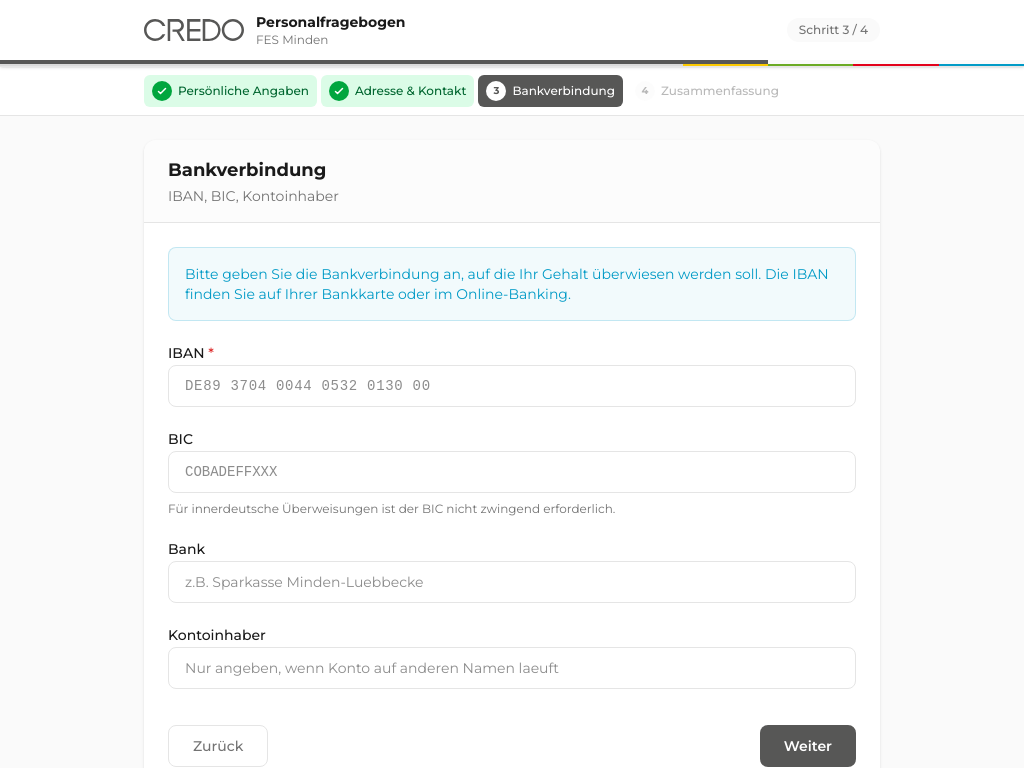
Test: Schrittleiste: erkennt auch Eingaben ohne name-Attribut › fragt vor dem Sprung, wenn eine Ja/Nein-Frage beantwortet wurde
Click the button "Persönliche Angaben": point(230, 91) [144,75,317,107]
(page scrolled)
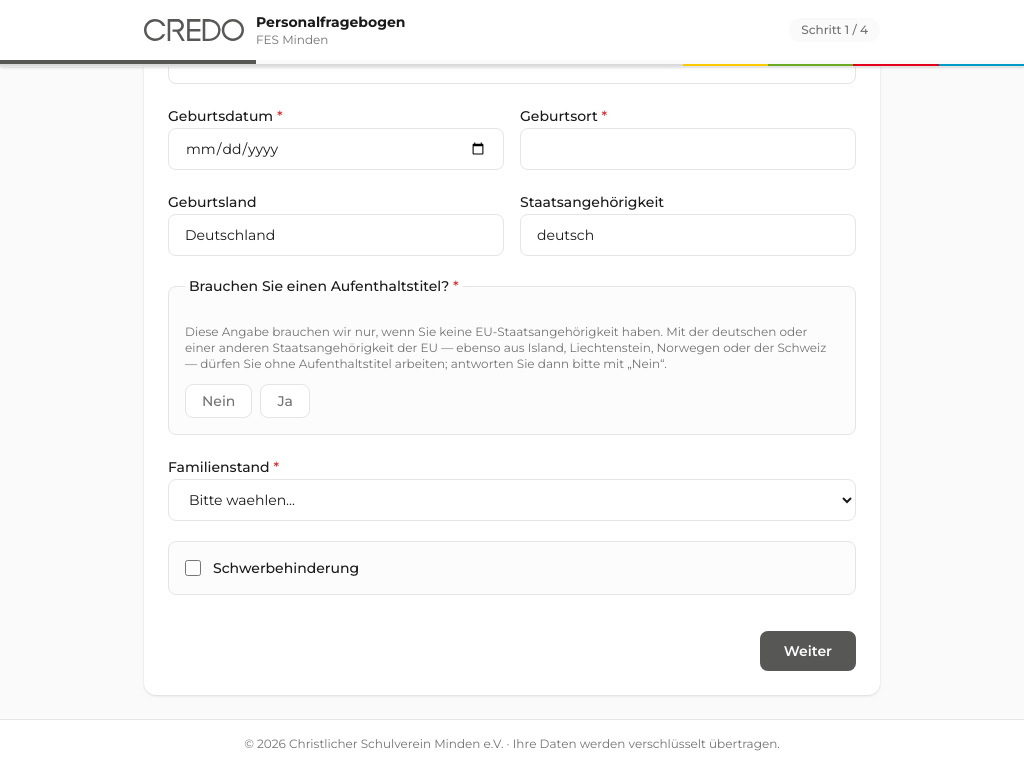
Click the radio button labelled "Nein": point(219, 401) [185,384,252,418]
(page scrolled)
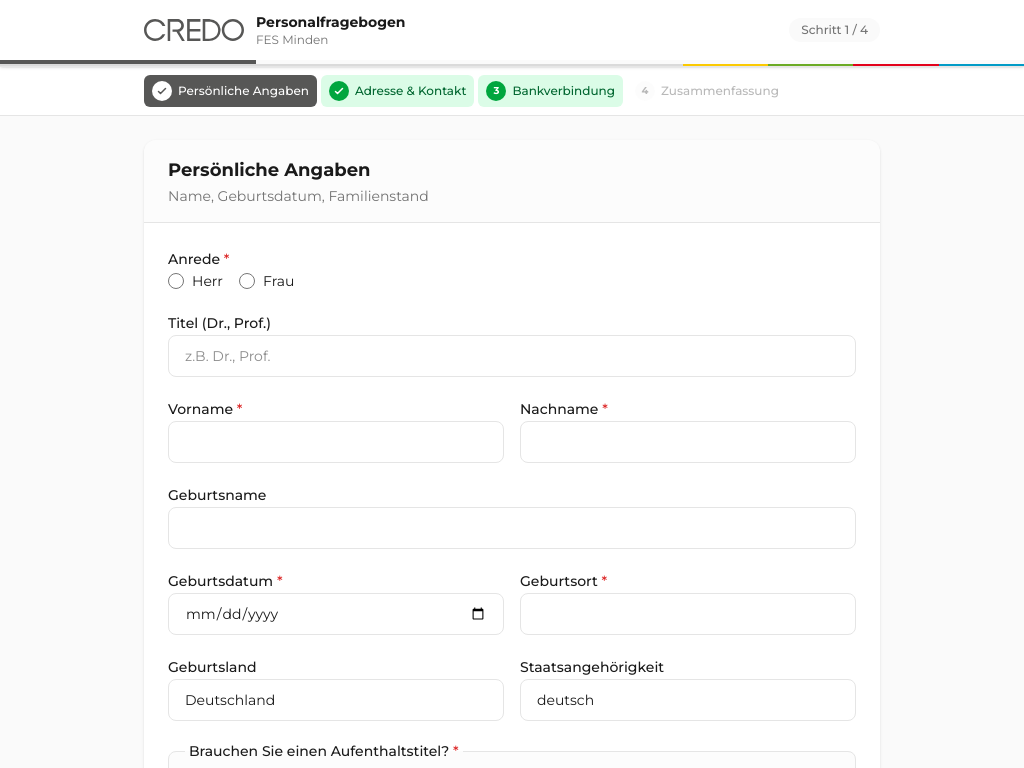
Click the button titled "Schritt 3: Bankverbindung": point(551, 91) [478,75,623,107]
(page scrolled)
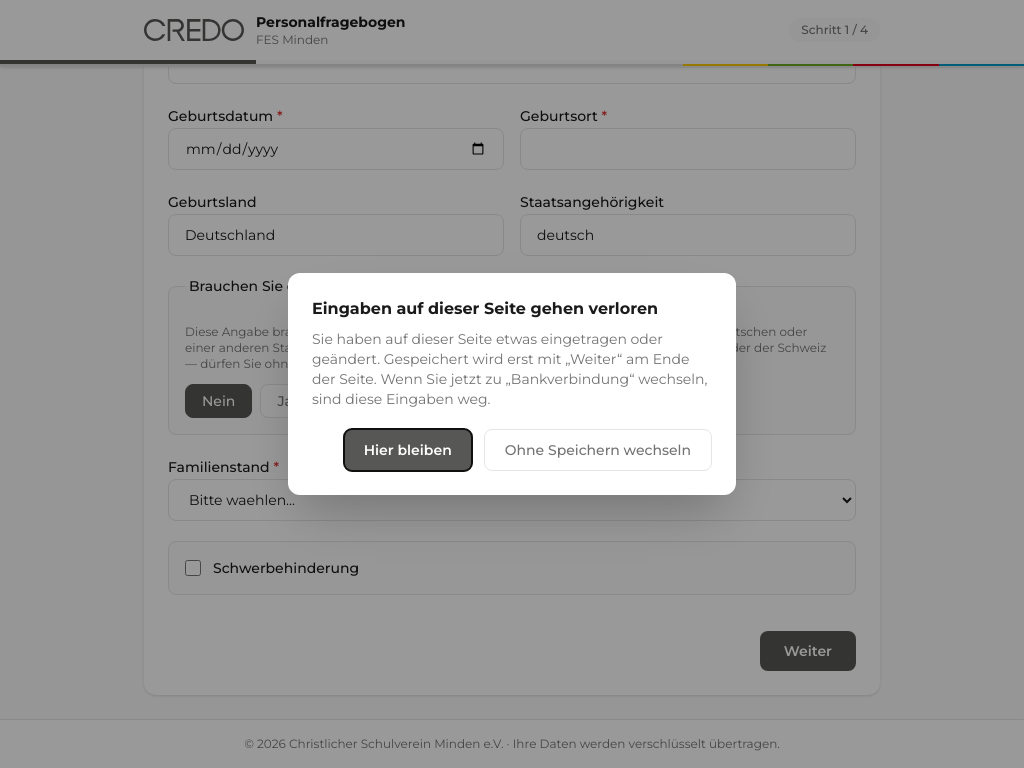
Now the dialog is shown
